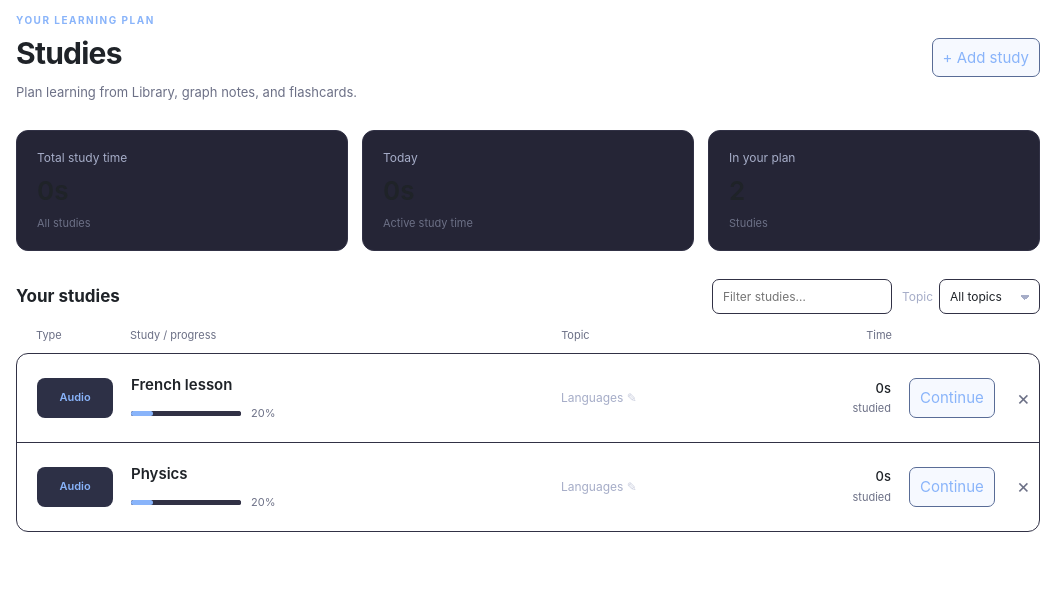
Test: Studies library › exposes a Ctrl+F text filter and uses the progress returned by metadata saves
The image size is (1057, 594).
Expected: the button "French lesson" is shown, [131,374,232,396]
Step 1. Type "French" into the search field with placeholder "Filter studies…" → (802, 297), box [712,279,892,314]
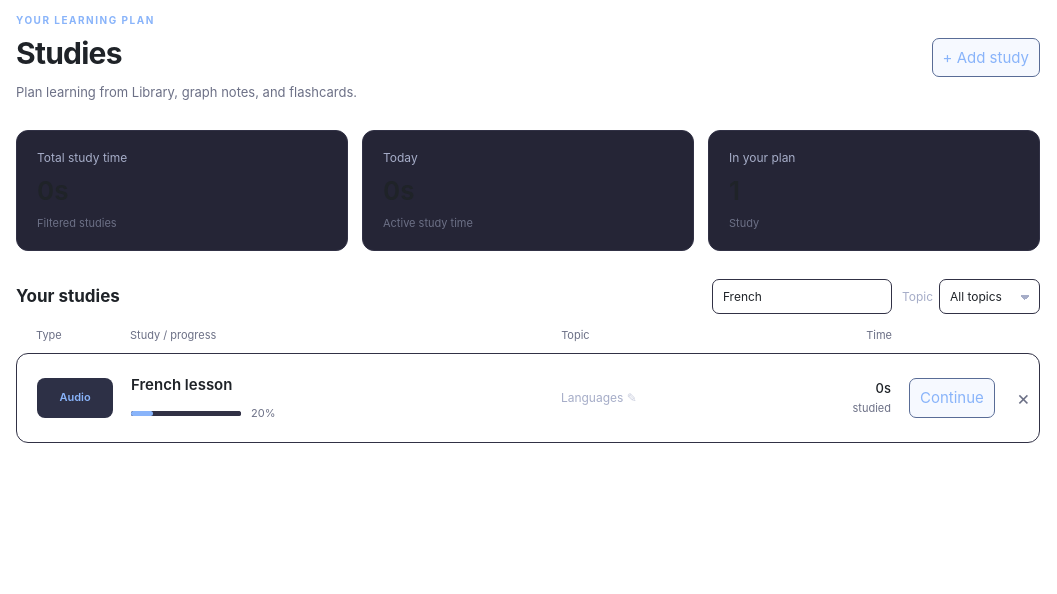
Result: the number of list items with class "study-row" is 1 at [37,374,1040,420]
Step 2. Click the button "Languages ✎" → (599, 398), box [561,385,637,411]
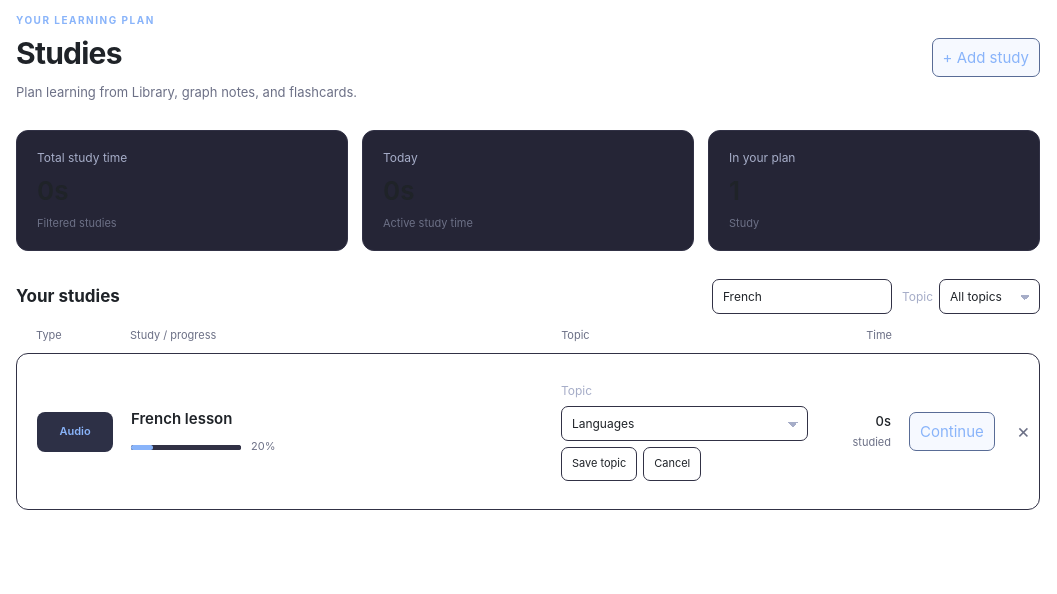
Step 3. Select "+ Add a new topic..." in the dropdown labelled "Topic" in the row of "Audio" → (684, 423), box [561,406,808,441]
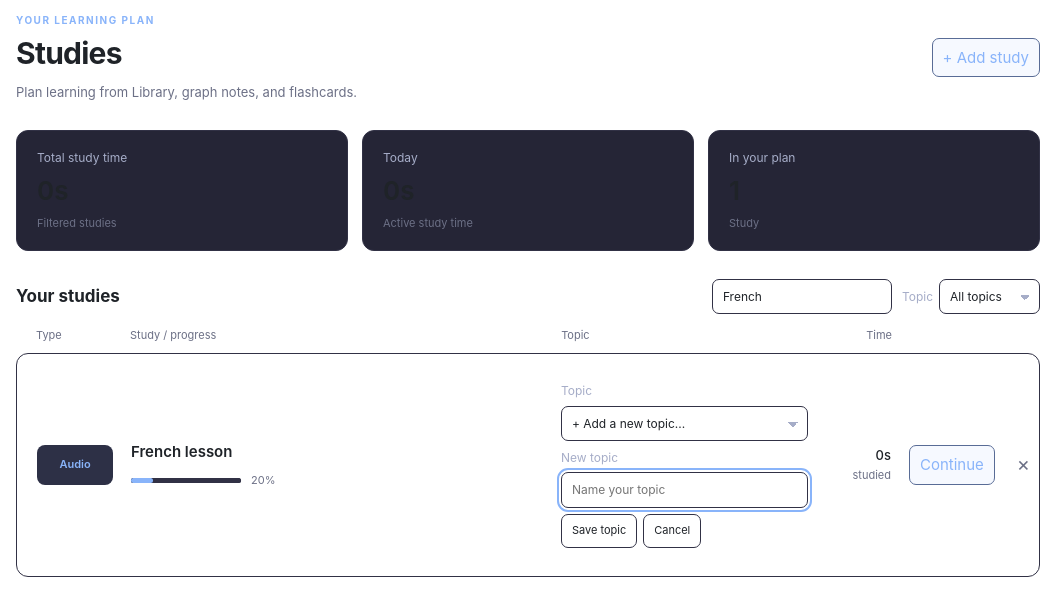
Step 4. Type "French" into the field labelled "New topic" → (684, 490), box [561,472,808,508]
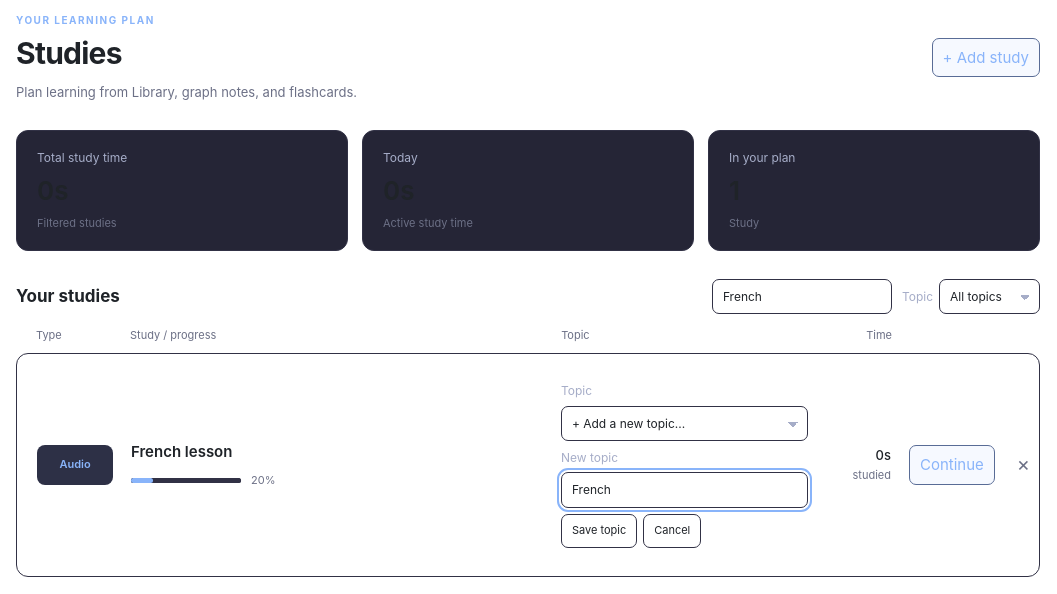
Step 5. Click the button "Save topic" → (599, 531), box [561,514,637,548]
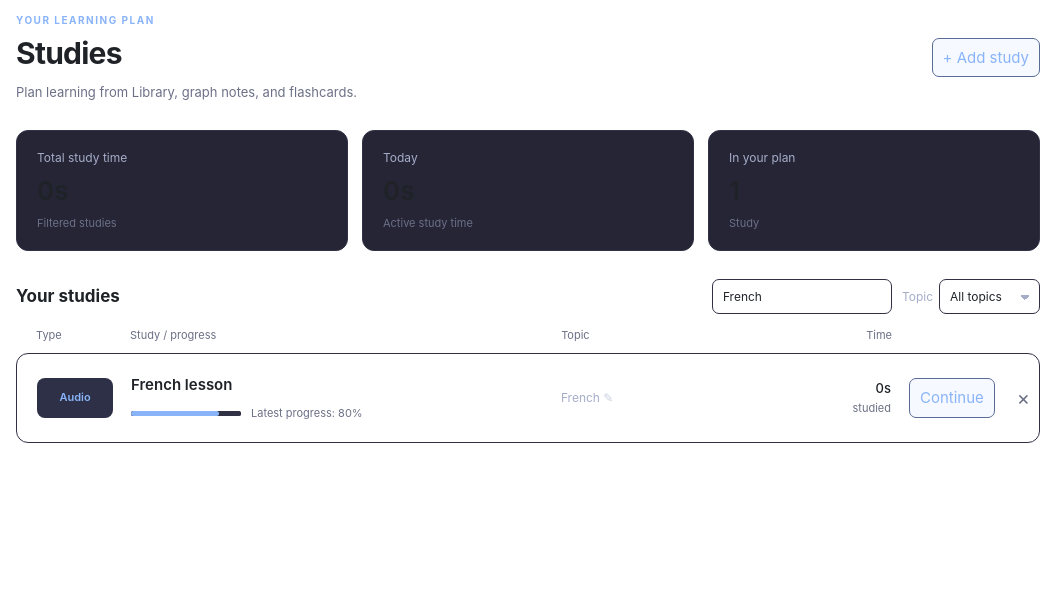
Expected: the progress indicator named "French lesson progress" holds "80", [131,411,241,416]
Result: the text "Latest progress: 80%" is shown at [251,406,363,422]
